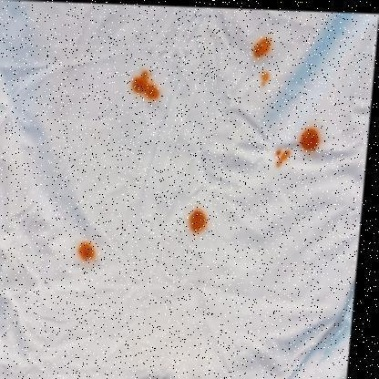kimchi: (124, 69, 160, 103), (248, 35, 277, 62), (185, 206, 209, 237), (71, 243, 104, 265), (302, 128, 320, 155), (273, 148, 290, 169), (257, 72, 271, 87)
